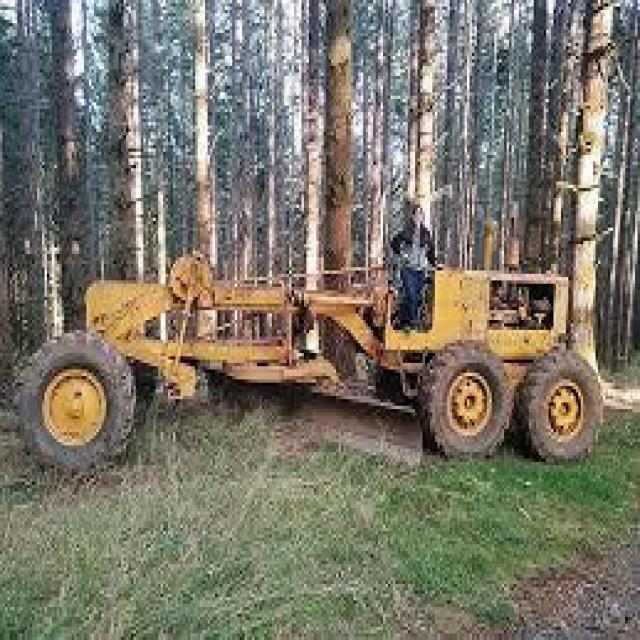Grader: (32, 168, 638, 498)
